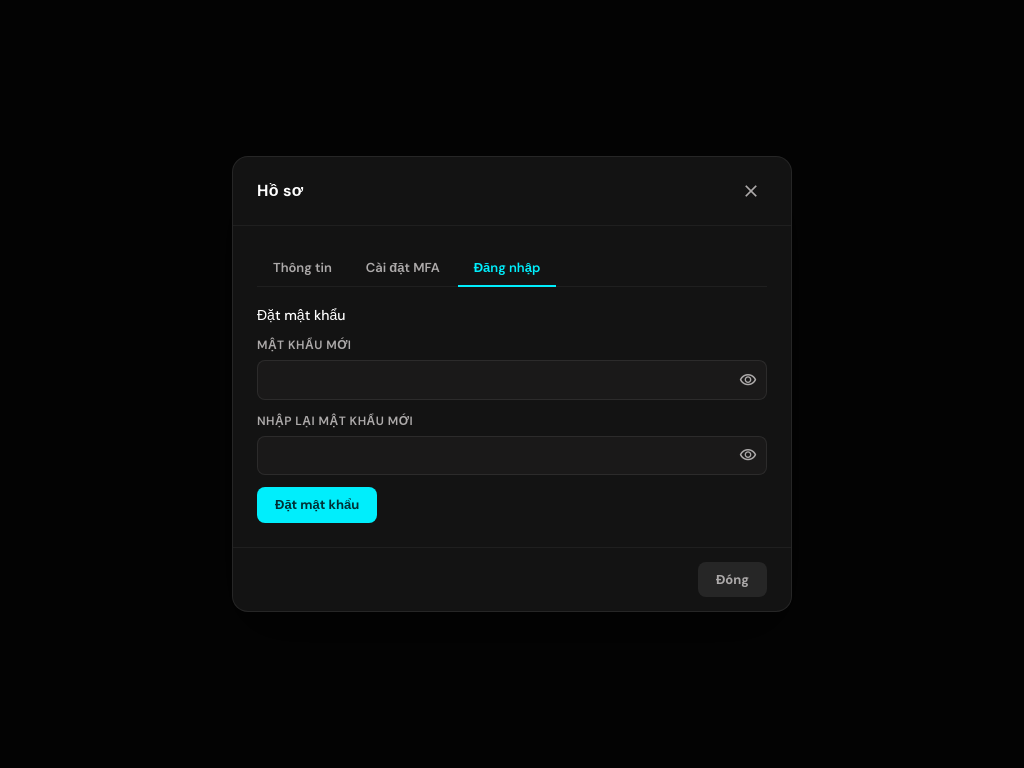
it: ProfileModal sign-in tab: set password › blocks a mismatched confirmation client-side
The width and height of the screenshot is (1024, 768).
Type "correct-horse-battery" into the password field labelled "Mật khẩu mới".
click(512, 380); type("correct-horse-battery")  # box [257, 360, 767, 400]
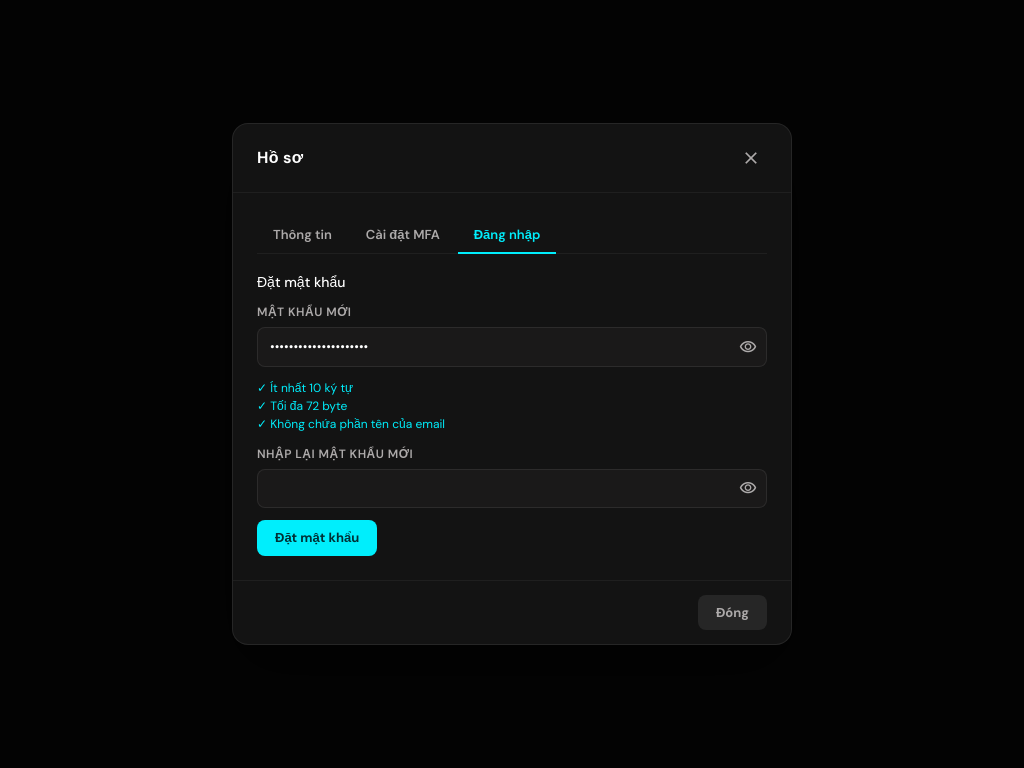
Type "different-password" into the password field labelled "Nhập lại mật khẩu mới".
click(512, 488); type("different-password")  # box [257, 469, 767, 508]
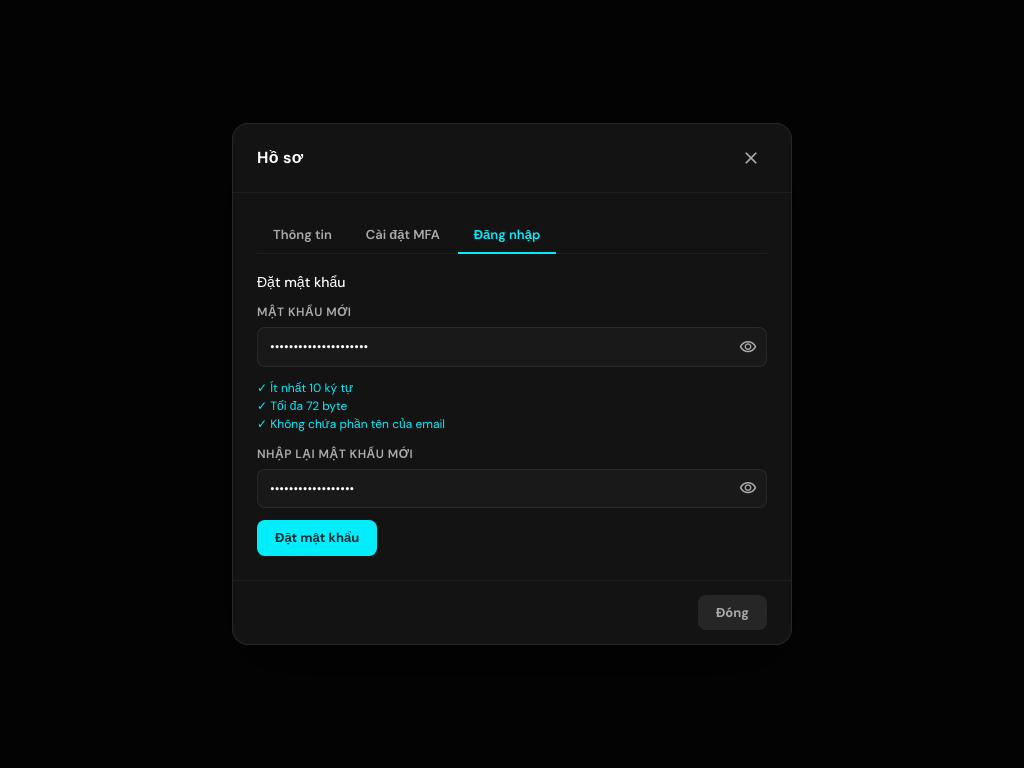
Click the button "Đặt mật khẩu".
click(317, 538)  # box [257, 520, 377, 556]
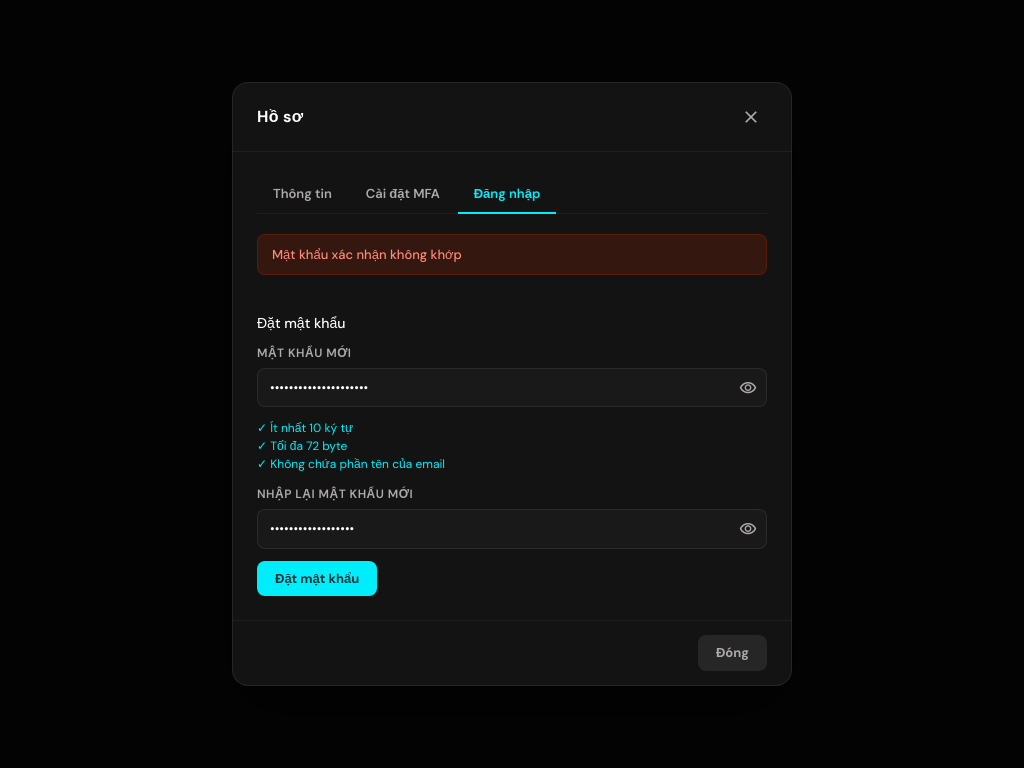
expect the text "Mật khẩu xác nhận không khớp" is shown: met, box [257, 234, 767, 275]
